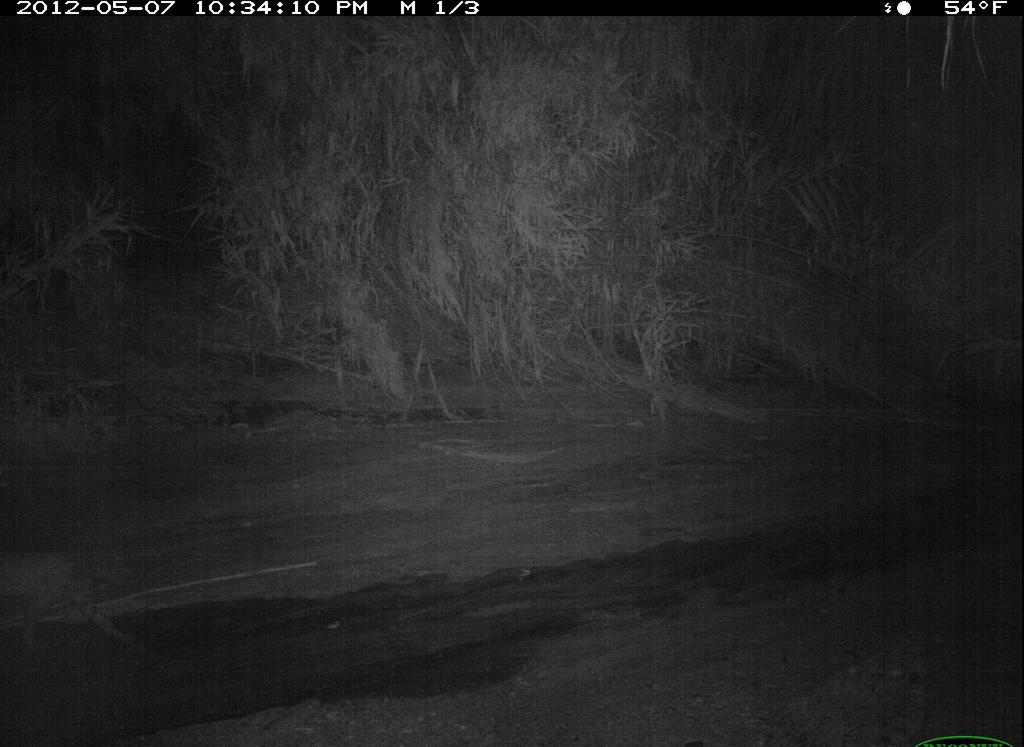bobcat: (3, 535, 150, 658)
